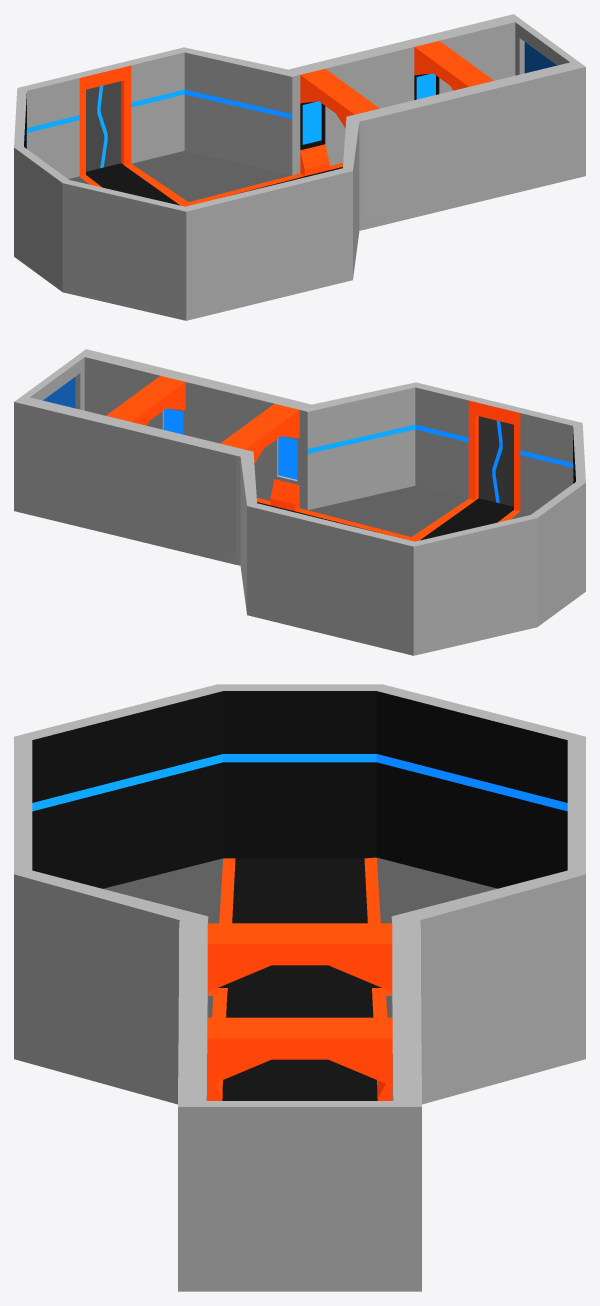
Rendered from Inside_fix_materials.fbx.
3 views of the same model, one above another, from view 1: azimuth 30°, elevation 25°; view 2: azimuth 150°, elevation 25°; view 3: azimuth 270°, elevation 25° (orthographic). The views are drawn at different scales.
Parts seen in each view (by area): view 1: Box010; view 2: Box010; view 3: Box010.
Part boxes in pixels (x1,y1,x2,y2): Box010: [14, 14, 585, 320]; Box010: [14, 349, 585, 655]; Box010: [14, 684, 585, 1291].
Bounding box in the file's own units: 210 × 42.76 × 120.
